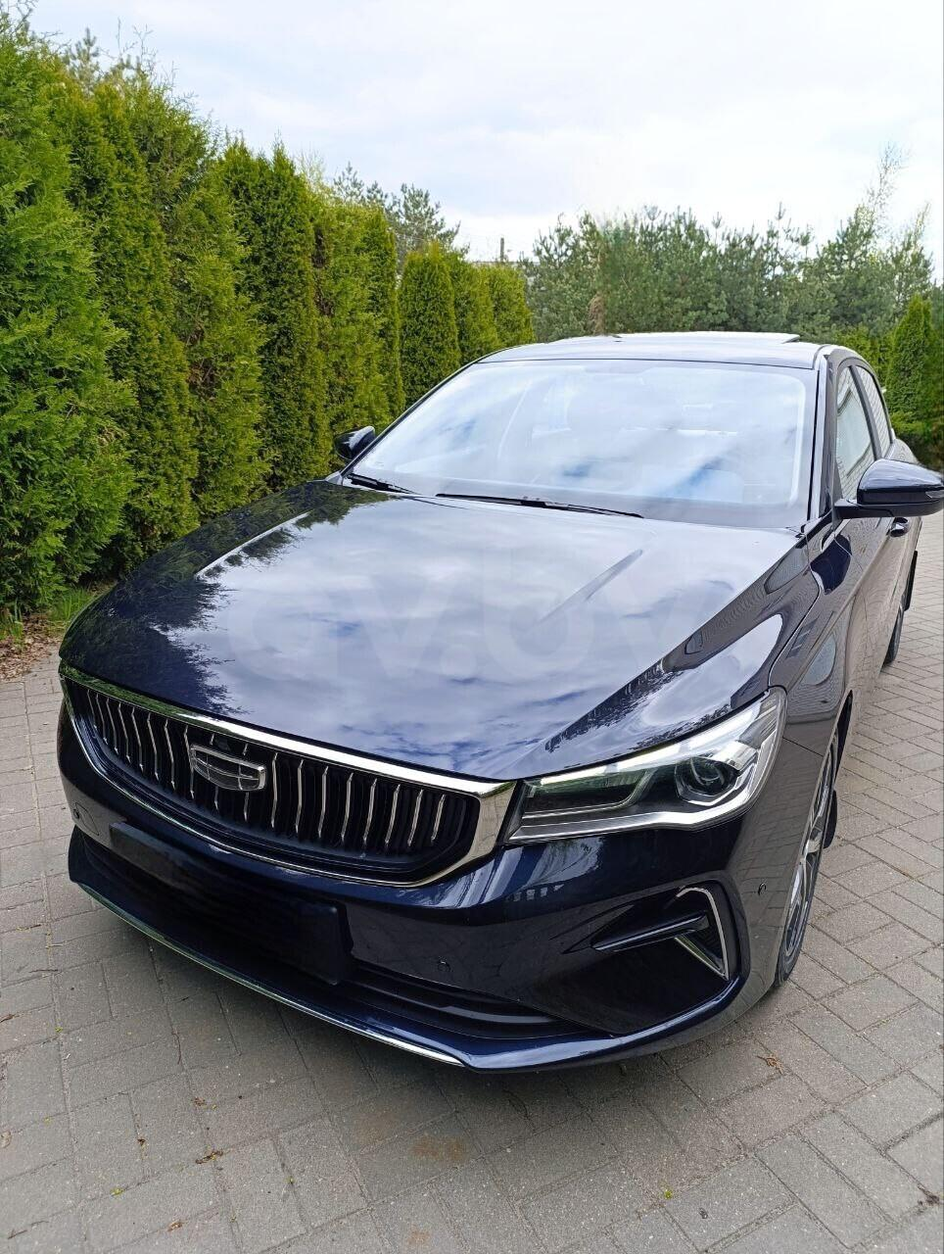Emgrand_2021: (54, 322, 944, 1081)
